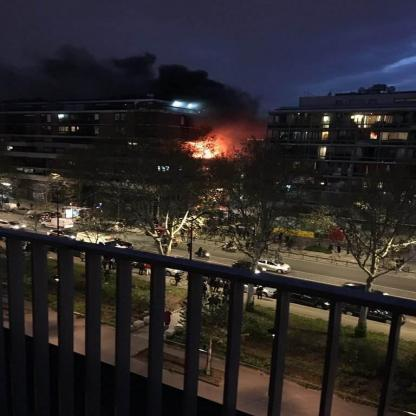fire: (179, 119, 243, 168)
